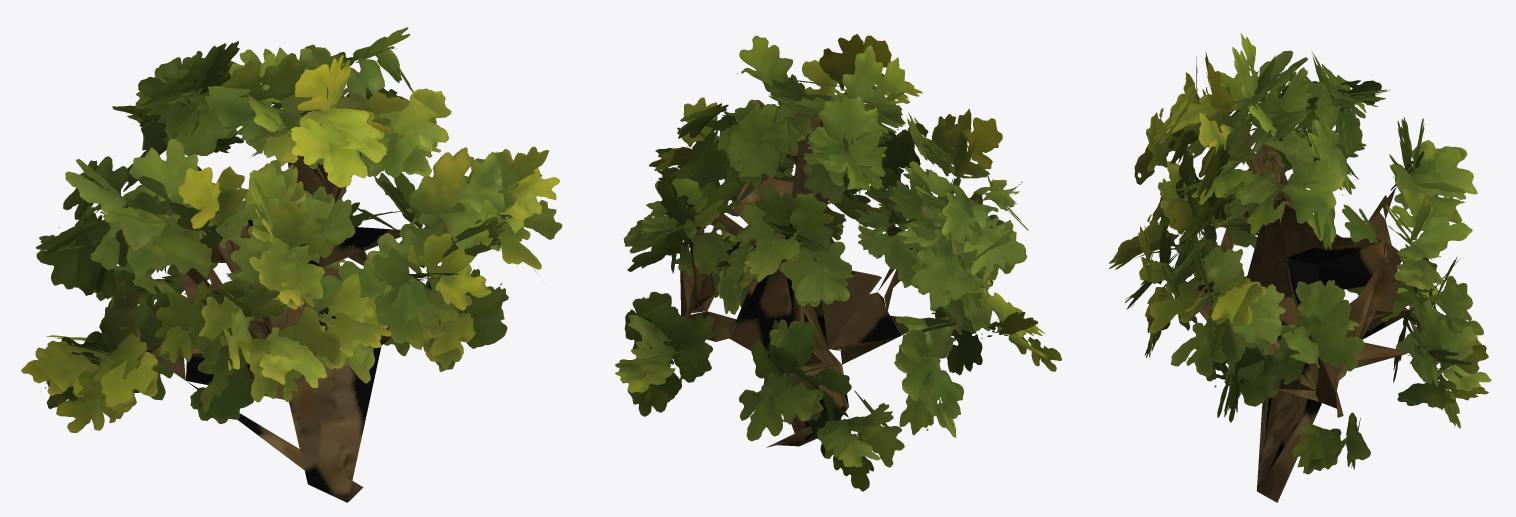
The model's file is agac_lod2.glb.
3 views of the same model, side by side, from view 1: azimuth 30°, elevation 25°; view 2: azimuth 150°, elevation 25°; view 3: azimuth 270°, elevation 25° (orthographic). The views are drawn at different scales.
Parts seen in each view (by area): view 1: agac_lod2; view 2: agac_lod2; view 3: agac_lod2.
Part boxes in pixels (<box>): agac_lod2: <box>21,27,562,502</box>; agac_lod2: <box>615,34,1061,491</box>; agac_lod2: <box>1109,33,1491,502</box>.
Size of the model in its own units: 5.3 by 4.8 by 4.19.
Materials: 2 (2 with a texture image).
